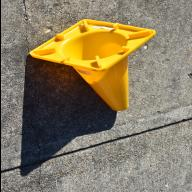cone: (28, 19, 154, 111)
